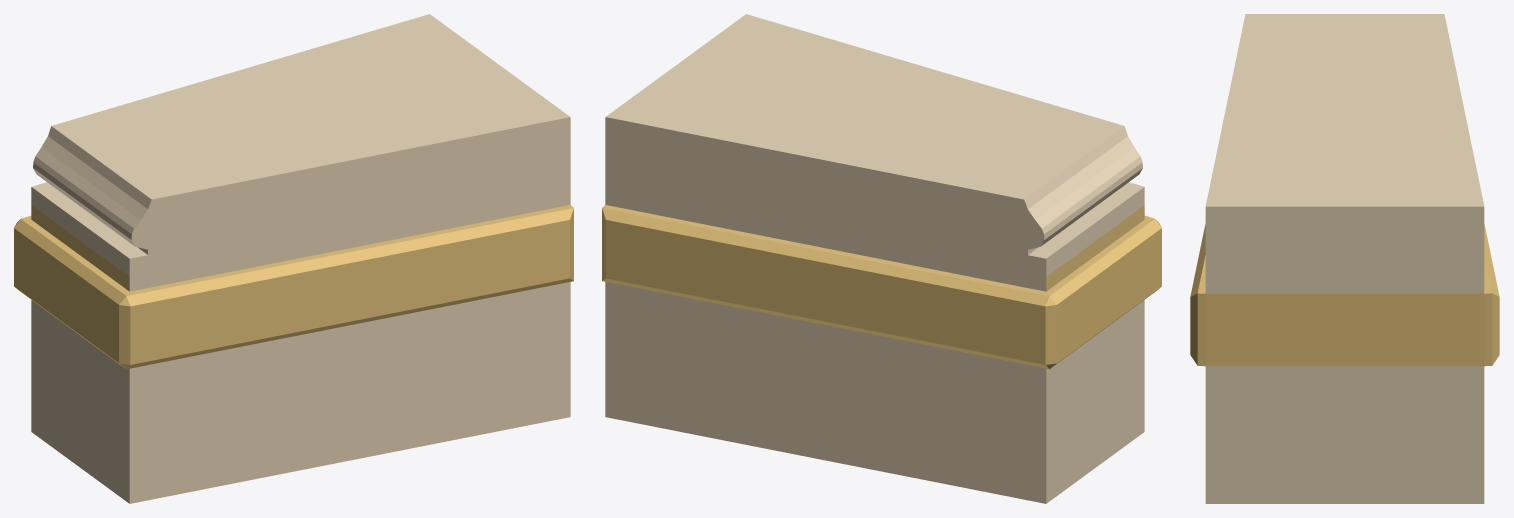
File: kapi.fbx
3 renders of one model, left to right at view 1: azimuth 30°, elevation 25°; view 2: azimuth 150°, elevation 25°; view 3: azimuth 270°, elevation 25°, orthographic.
Visible parts, largest first — view 1: Cylinder.016; view 2: Cylinder.016; view 3: Cylinder.016.
Part boxes in pixels (x1,y1,x2,y2): Cylinder.016: (14,14,573,503); Cylinder.016: (602,14,1161,503); Cylinder.016: (1190,14,1499,503).
Bounding box in the file's own units: 620 × 410 × 387.
